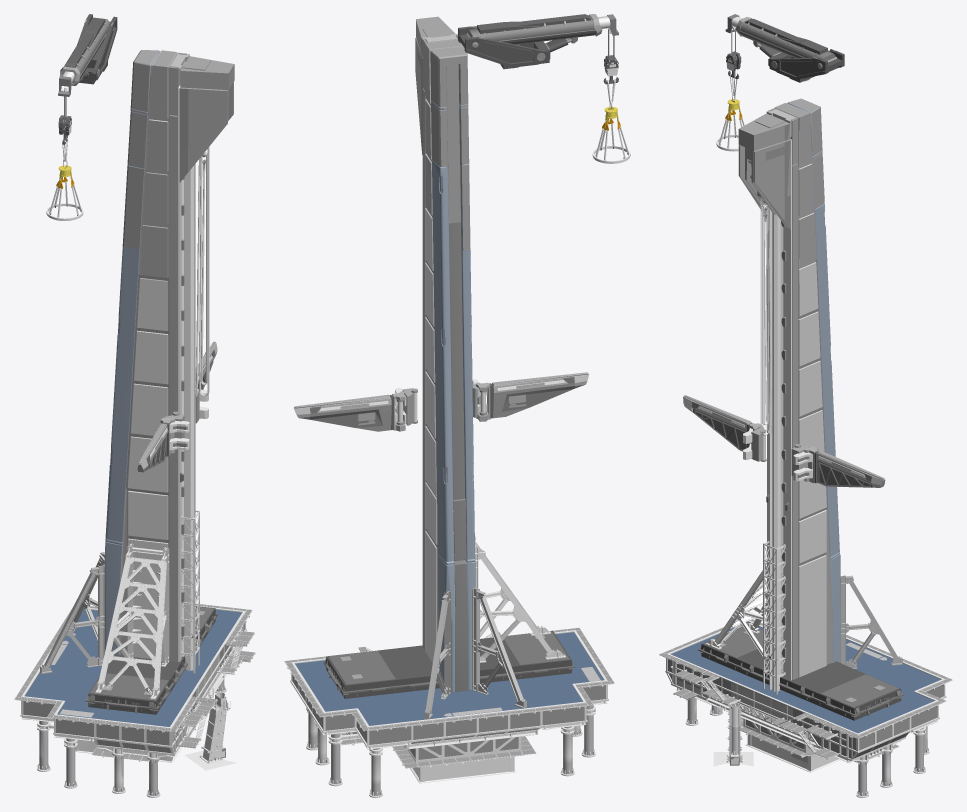
File: cell_150_90.fbx
3 renders of one model, left to right at view 1: azimuth 30°, elevation 25°; view 2: azimuth 150°, elevation 25°; view 3: azimuth 270°, elevation 25°, orthographic. The views are drawn at different scales.
Visible parts, largest first — view 1: SM_H_Industrial_ISS_LaunchLauncher_01C.mo.001, SM_H_Industrial_ISS_LaunchLauncher_01B.mo.001, SM_H_Industrial_ISS_Rocket_02.mo.001, SM_H_Industrial_ISS_LaunchLauncher_01K.mo.001, SM_H_Industrial_ISS_LaunchLauncher_01M.mo.006; view 2: SM_H_Industrial_ISS_LaunchLauncher_01C.mo.001, SM_H_Industrial_ISS_LaunchLauncher_01B.mo.001, SM_H_Industrial_ISS_Rocket_02.mo.001, SM_H_Industrial_ISS_LaunchLauncher_01K.mo.001; view 3: SM_H_Industrial_ISS_LaunchLauncher_01C.mo.001, SM_H_Industrial_ISS_LaunchLauncher_01B.mo.001, SM_H_Industrial_ISS_Rocket_02.mo.001, SM_H_Industrial_ISS_LaunchLauncher_01K.mo.001, SM_H_Industrial_ISS_LaunchLauncher_01M.mo.006.
Part boxes in pixels (left/top/right/bottom): SM_H_Industrial_ISS_LaunchLauncher_01C.mo.001: left=40, top=50, right=234, bottom=714; SM_H_Industrial_ISS_LaunchLauncher_01B.mo.001: left=14, top=603, right=255, bottom=797; SM_H_Industrial_ISS_Rocket_02.mo.001: left=46, top=14, right=217, bottom=472; SM_H_Industrial_ISS_LaunchLauncher_01K.mo.001: left=95, top=543, right=169, bottom=699; SM_H_Industrial_ISS_LaunchLauncher_01M.mo.006: left=184, top=688, right=236, bottom=770; SM_H_Industrial_ISS_LaunchLauncher_01C.mo.001: left=323, top=16, right=574, bottom=719; SM_H_Industrial_ISS_LaunchLauncher_01B.mo.001: left=284, top=627, right=614, bottom=797; SM_H_Industrial_ISS_Rocket_02.mo.001: left=294, top=14, right=630, bottom=431; SM_H_Industrial_ISS_LaunchLauncher_01K.mo.001: left=475, top=536, right=565, bottom=662; SM_H_Industrial_ISS_LaunchLauncher_01C.mo.001: left=698, top=98, right=903, bottom=720; SM_H_Industrial_ISS_LaunchLauncher_01B.mo.001: left=659, top=619, right=952, bottom=797; SM_H_Industrial_ISS_Rocket_02.mo.001: left=683, top=14, right=885, bottom=487; SM_H_Industrial_ISS_LaunchLauncher_01K.mo.001: left=705, top=562, right=766, bottom=663; SM_H_Industrial_ISS_LaunchLauncher_01M.mo.006: left=713, top=704, right=754, bottom=766.
Size of the model in its own units: 51.2 by 131 by 51.2.
